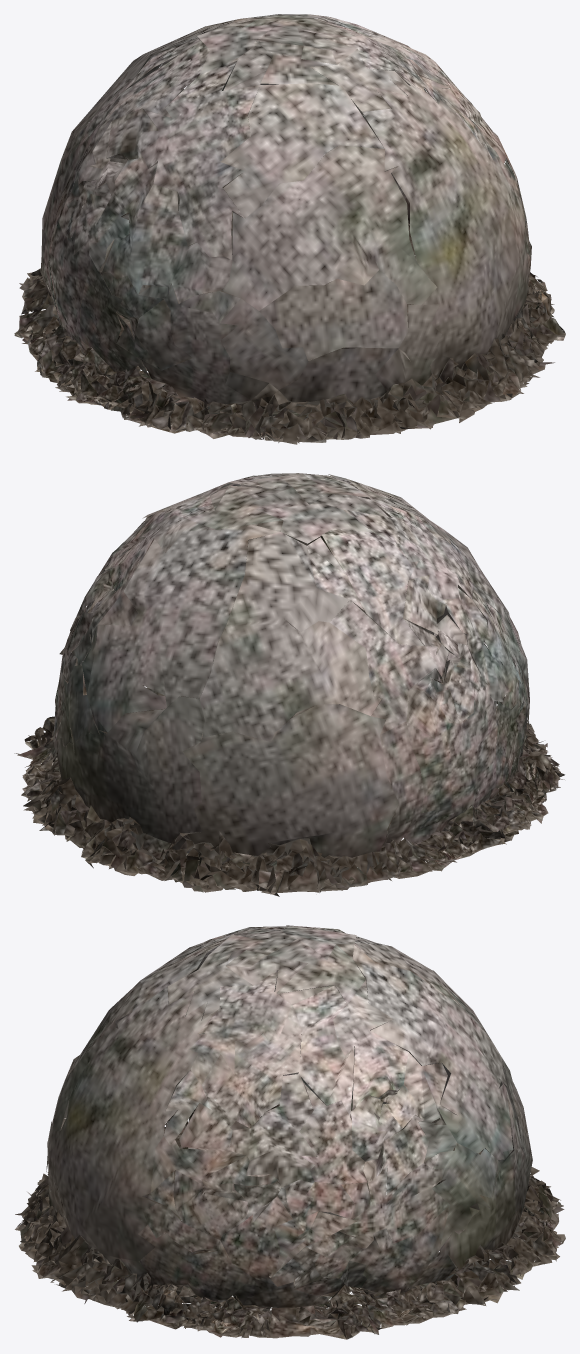
Rendered from boulder4.glb.
The picture shows the model from 3 angles, top to bottom: view 1: azimuth 30°, elevation 25°; view 2: azimuth 150°, elevation 25°; view 3: azimuth 270°, elevation 25°; orthographic projection. The views are drawn at different scales.
Visible parts, largest first — view 1: Mesh_0; view 2: Mesh_0; view 3: Mesh_0.
Boxes of the visible parts, bbox=[...] form: Mesh_0: bbox=[14, 14, 565, 444]; Mesh_0: bbox=[14, 473, 564, 896]; Mesh_0: bbox=[15, 925, 565, 1339].
Bounding box in the file's own units: 0.9645 × 0.5676 × 1.
1 material, 1 textured.
